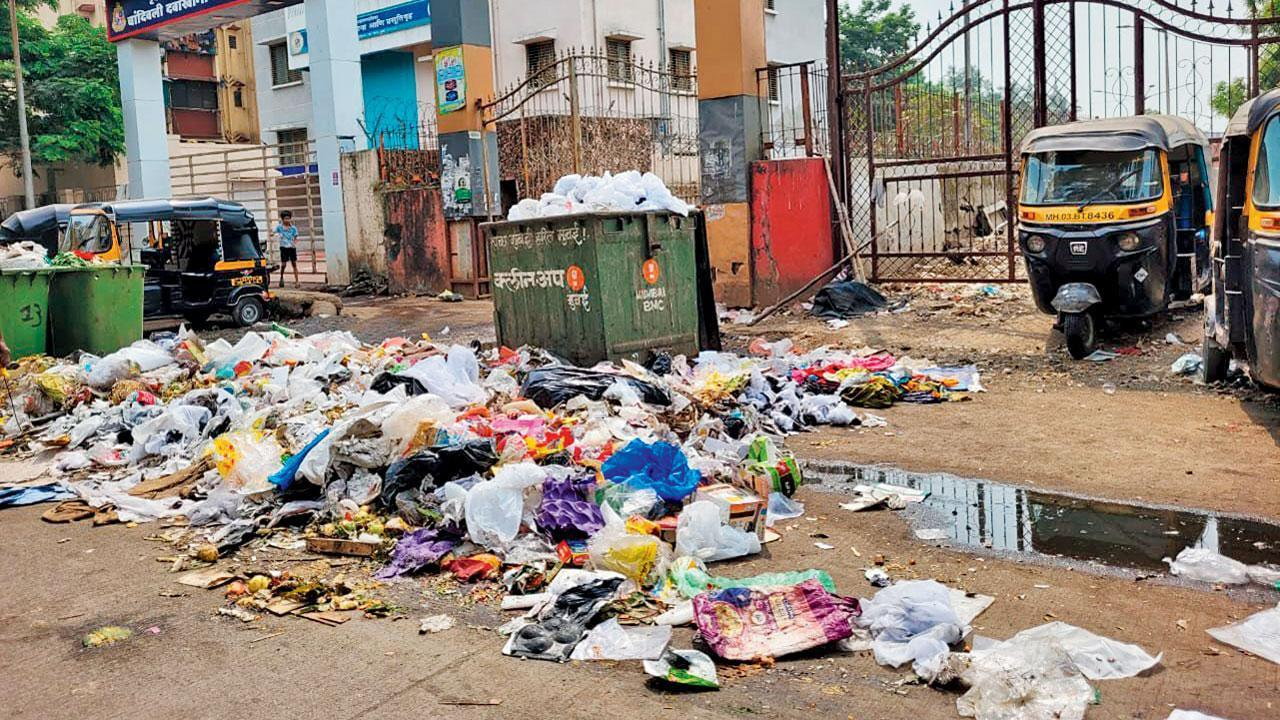trash: (49, 361, 663, 516)
